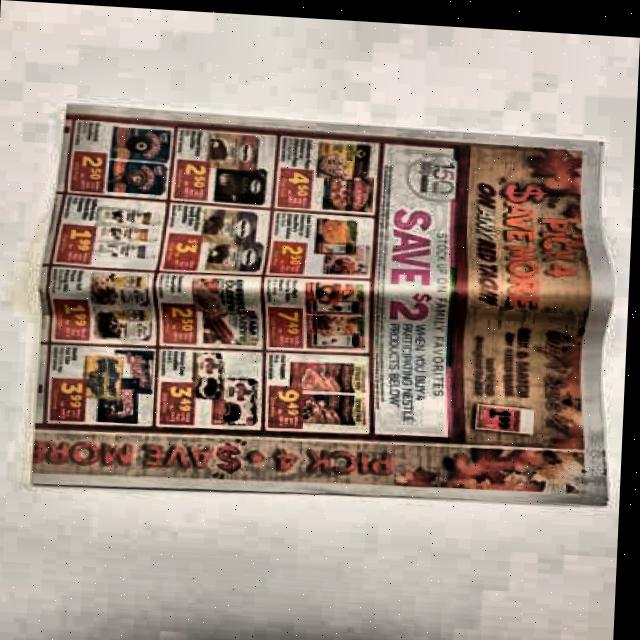paper: (19, 103, 624, 520)
